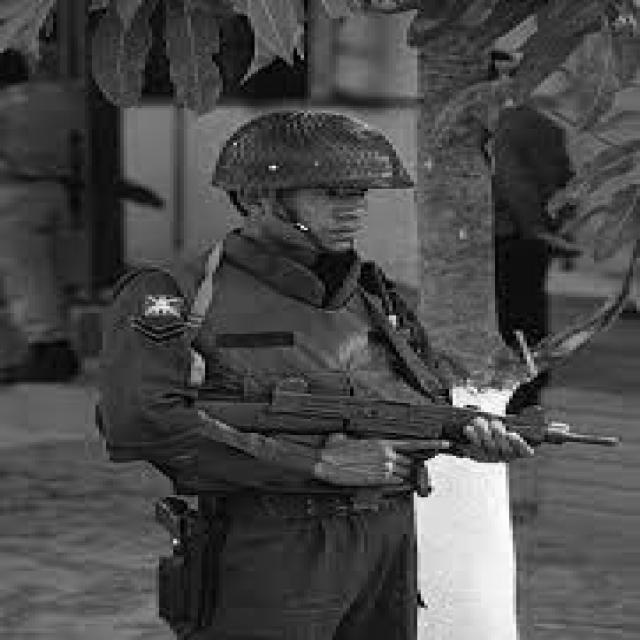gun: (88, 383, 615, 505)
